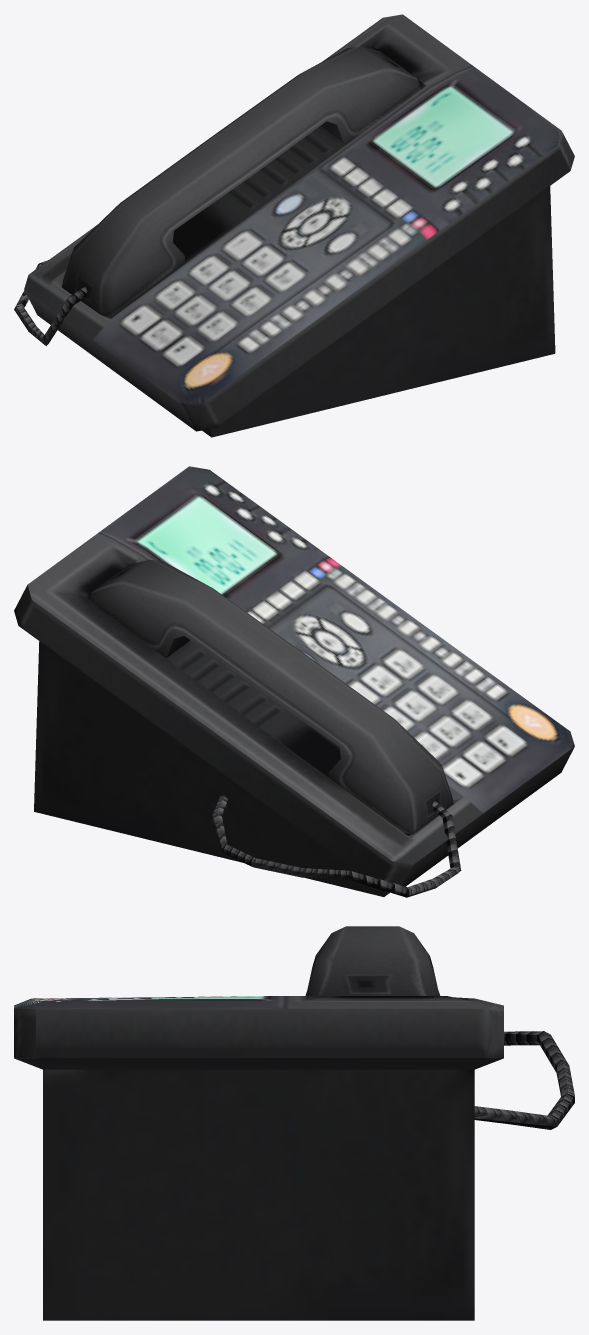
Rendered from BianLiDian_01_dianhua_01.FBX.
3 renders of one model, top to bottom at view 1: azimuth 30°, elevation 25°; view 2: azimuth 150°, elevation 25°; view 3: azimuth 270°, elevation 25°, orthographic. The views are drawn at different scales.
Visible parts, largest first — view 1: BianLiDian_01_dianhua_01; view 2: BianLiDian_01_dianhua_01; view 3: BianLiDian_01_dianhua_01.
Boxes of the visible parts, left/top/right/bottom form: BianLiDian_01_dianhua_01: left=14, top=14, right=574, bottom=437; BianLiDian_01_dianhua_01: left=14, top=466, right=574, bottom=897; BianLiDian_01_dianhua_01: left=14, top=926, right=574, bottom=1320.
Bounding box in the file's own units: 118 × 62.83 × 100.
